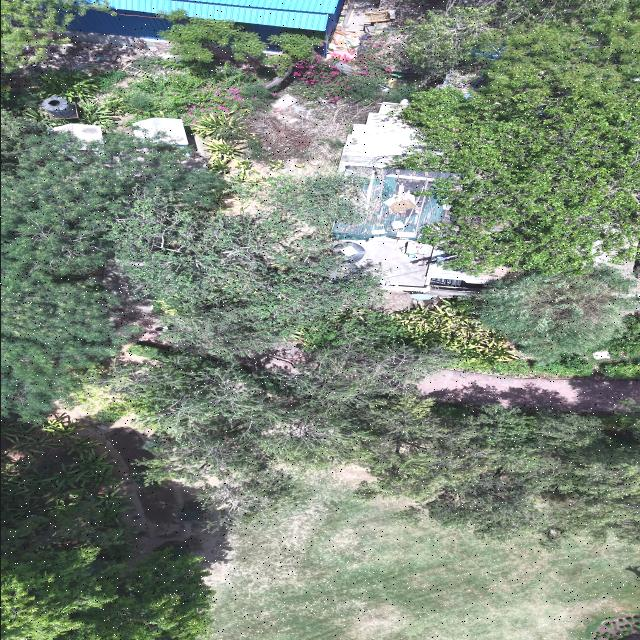DRY_AREA: (66, 407, 639, 639), (230, 490, 639, 639), (58, 406, 239, 588), (56, 406, 234, 586), (54, 405, 230, 583), (55, 406, 229, 572), (80, 418, 229, 568), (250, 90, 380, 177), (418, 370, 639, 410), (11, 31, 170, 83), (101, 259, 163, 343), (378, 0, 443, 25), (592, 614, 639, 639)
ROOFTOP_BUILDING: (334, 102, 492, 295), (335, 102, 493, 294), (334, 167, 492, 295), (68, 0, 372, 58), (69, 0, 339, 37), (333, 166, 450, 240), (356, 238, 489, 296), (111, 0, 338, 29), (340, 102, 416, 169), (68, 9, 171, 40), (133, 117, 189, 145), (134, 117, 189, 145), (133, 117, 188, 145), (51, 122, 103, 150), (52, 122, 102, 149)
VEGETATION_TREE: (1, 0, 639, 639), (1, 0, 639, 545), (86, 300, 638, 544), (9, 15, 378, 357), (1, 71, 223, 639), (96, 343, 639, 544), (109, 174, 625, 375), (209, 472, 639, 639), (1, 112, 224, 421), (403, 0, 639, 271), (95, 340, 446, 519), (406, 3, 638, 272), (407, 4, 638, 271), (1, 0, 143, 420), (89, 11, 411, 172), (105, 171, 377, 357), (108, 175, 377, 357), (1, 418, 210, 639), (405, 89, 638, 271), (1, 112, 136, 420), (356, 403, 639, 545), (89, 11, 410, 131), (8, 12, 320, 129), (294, 297, 639, 377), (95, 346, 272, 481), (1, 525, 210, 639), (113, 11, 320, 121), (394, 0, 638, 80), (9, 57, 273, 129), (472, 266, 639, 377), (1, 270, 124, 420), (1, 417, 131, 557), (289, 298, 531, 372), (486, 1, 639, 103), (479, 266, 638, 361), (60, 547, 210, 639), (475, 314, 639, 378), (113, 58, 272, 120), (159, 10, 321, 69), (400, 2, 522, 78), (290, 36, 421, 103), (393, 298, 517, 368), (1, 0, 109, 72), (6, 69, 126, 129), (8, 69, 122, 129), (262, 173, 362, 240), (291, 45, 391, 102), (198, 473, 297, 525), (288, 308, 404, 351), (191, 105, 254, 176), (188, 67, 268, 120), (600, 313, 639, 378), (475, 355, 595, 376), (30, 70, 102, 99), (269, 32, 323, 65), (604, 313, 639, 362), (78, 98, 123, 129), (531, 355, 594, 376), (96, 68, 128, 92), (601, 361, 639, 378)
